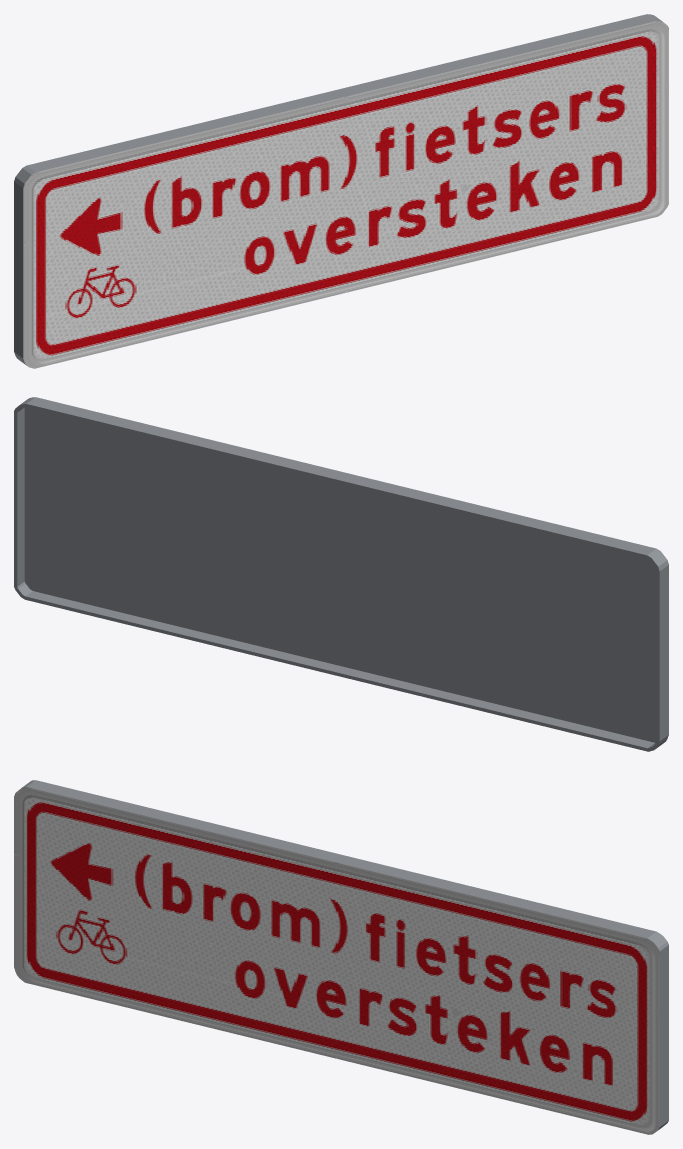
3 views of the same model, one above another, from view 1: azimuth 30°, elevation 25°; view 2: azimuth 150°, elevation 25°; view 3: azimuth 330°, elevation 25° (orthographic).
Parts seen in each view (by area): view 1: cat_9aa6f8439ca72292; view 2: cat_9aa6f8439ca72292; view 3: cat_9aa6f8439ca72292.
Part boxes in pixels (<box>): cat_9aa6f8439ca72292: <box>14,14,668,368</box>; cat_9aa6f8439ca72292: <box>14,397,668,751</box>; cat_9aa6f8439ca72292: <box>14,780,668,1134</box>.
Bounding box in the file's own units: 0.6 × 0.015 × 0.1742.
Materials: 2 (1 with a texture image).
